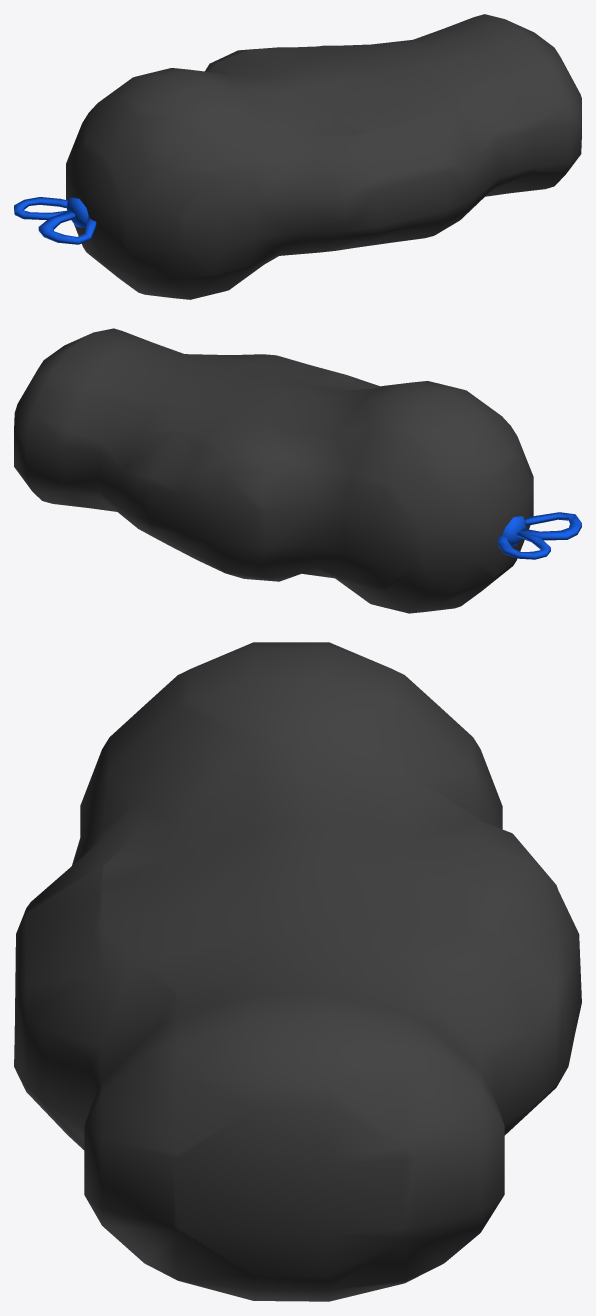
Rendered from Bagged Corpse 0.fbx.
3 views of the same model, one above another, from view 1: azimuth 30°, elevation 25°; view 2: azimuth 150°, elevation 25°; view 3: azimuth 270°, elevation 25° (orthographic). The views are drawn at different scales.
Visible parts, largest first — view 1: Mball, Tie; view 2: Mball, Tie; view 3: Mball.
Boxes of the visible parts, x1,y1,x2,y2 form: Mball: (66, 14, 581, 299); Tie: (14, 197, 96, 244); Mball: (14, 328, 533, 613); Tie: (498, 512, 581, 559); Mball: (14, 642, 581, 1301).
Bounding box in the file's own units: 142 × 53.05 × 71.36.
